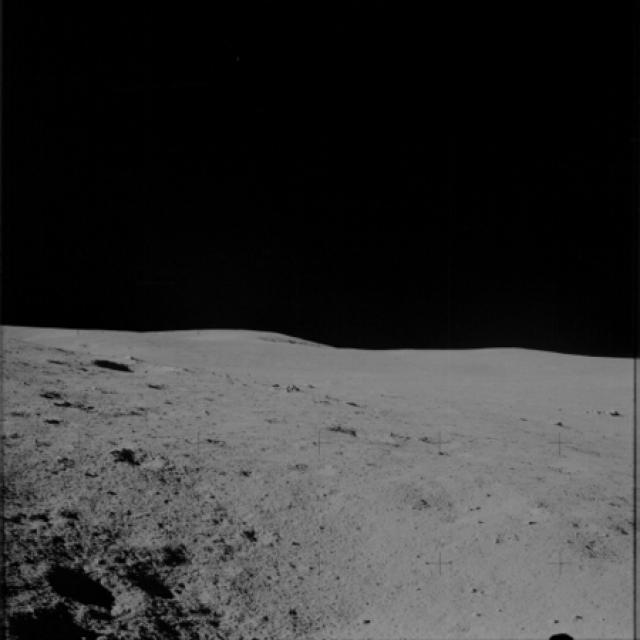crater: (385, 468, 526, 543), (34, 554, 144, 620), (31, 376, 159, 421), (79, 352, 185, 387), (323, 408, 398, 451), (103, 439, 168, 476), (236, 519, 284, 552), (409, 429, 453, 448)
